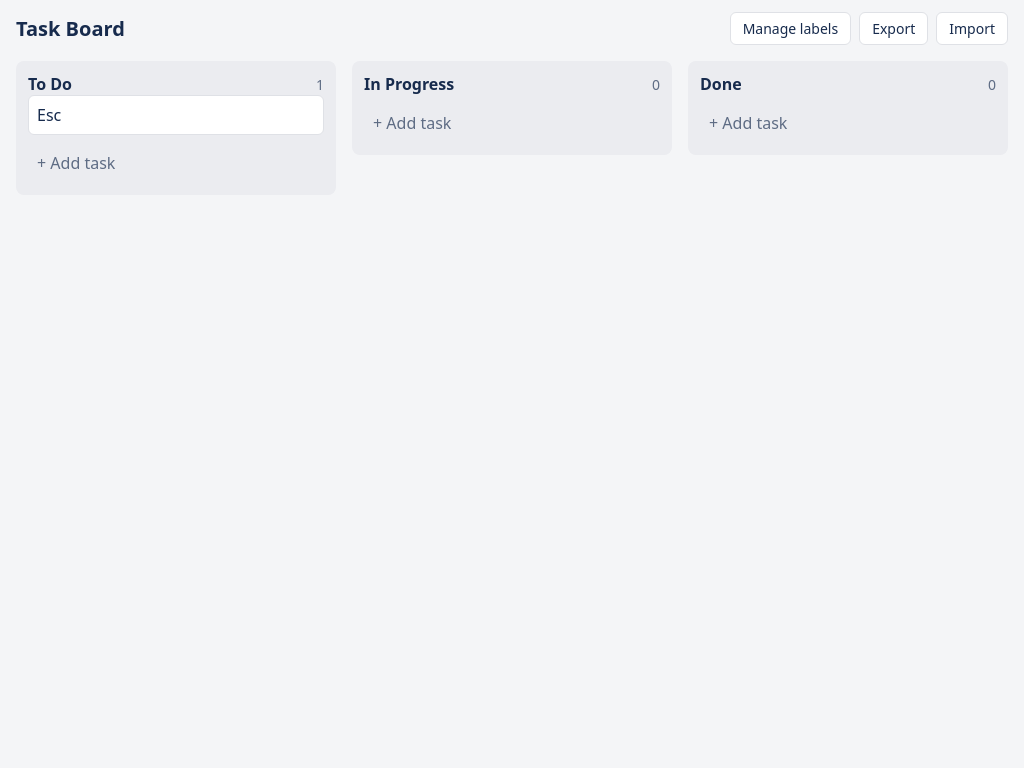
it: Keyboard use of the modal › closes on Escape
This screenshot has width=1024, height=768.
Click the heading "Esc" at (49, 115), box 37,104 -> 61,126
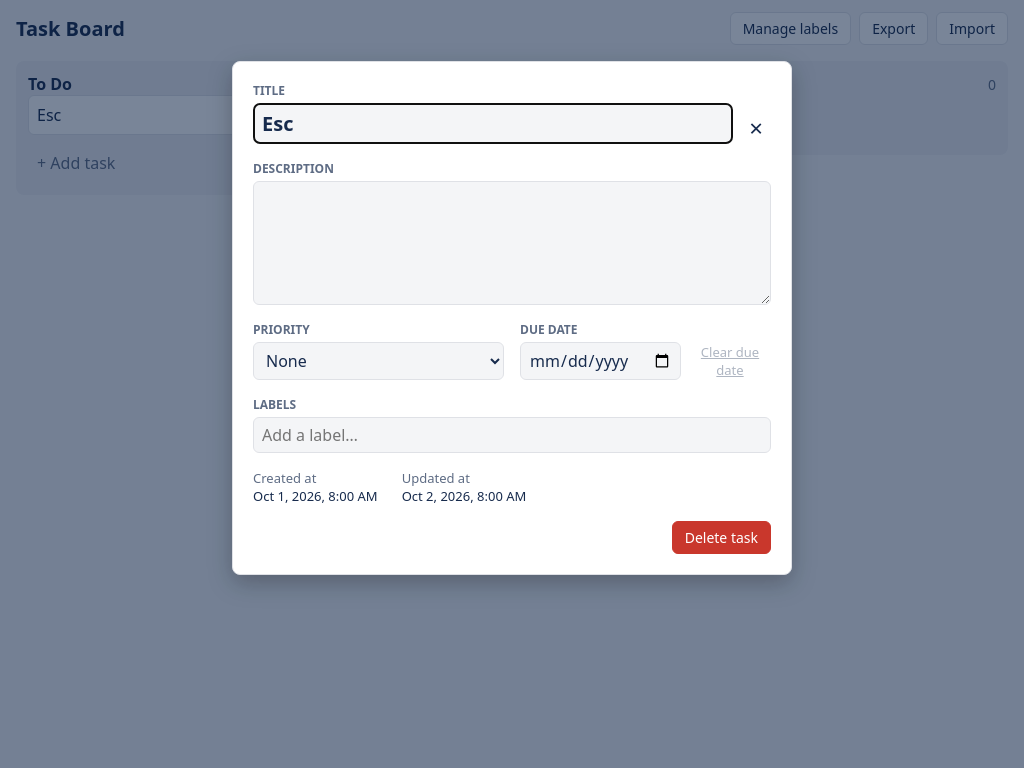
Click the dropdown labelled "Priority" at (378, 361), box 253,342 -> 504,380
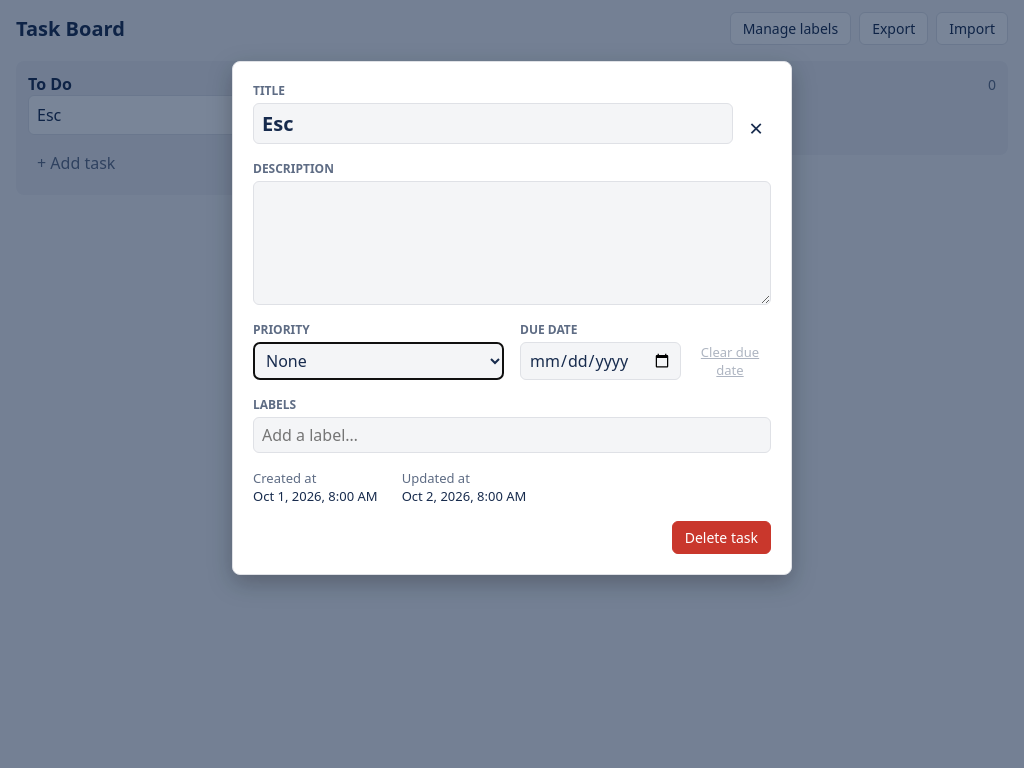
Press Escape
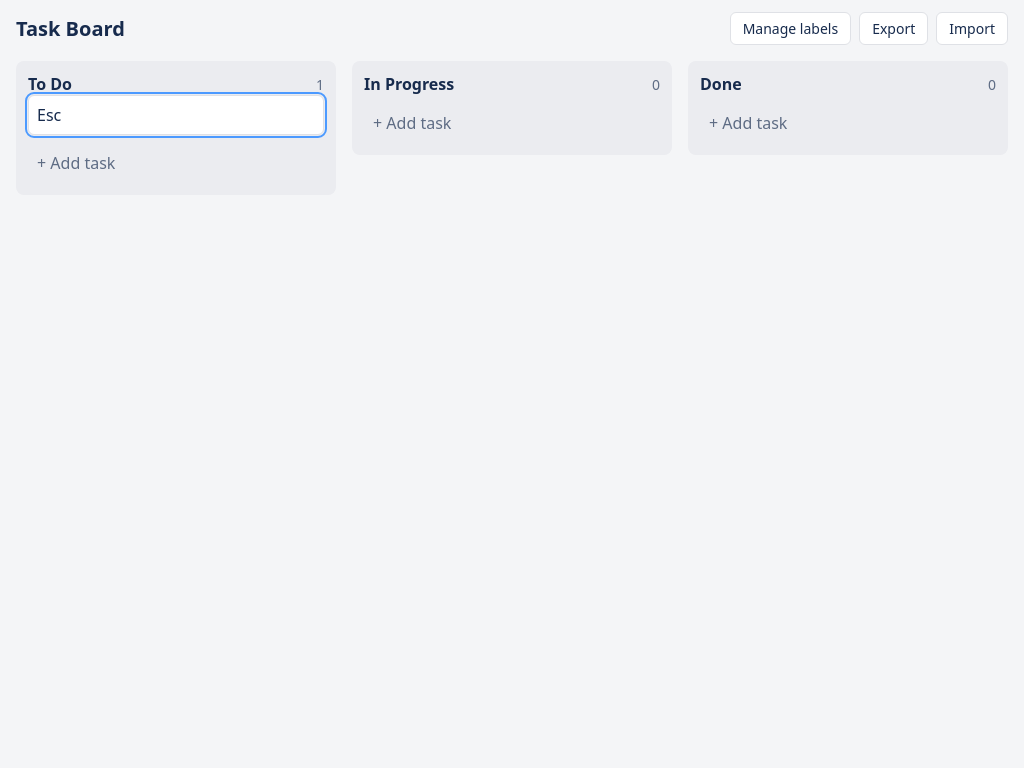
Result: the dialog is gone
